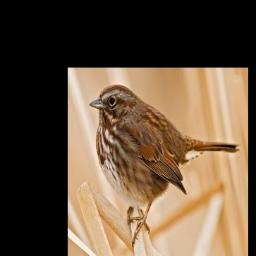Sparrow: (88, 83, 240, 248)
